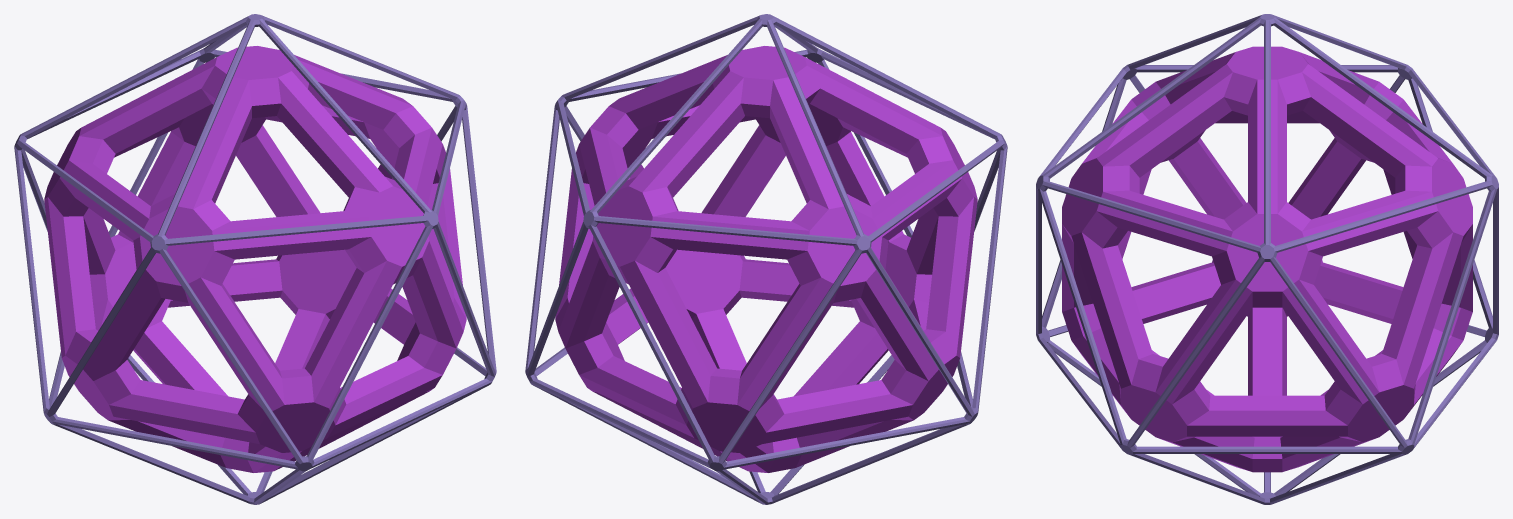
The picture shows the model from 3 angles, left to right: view 1: azimuth 30°, elevation 25°; view 2: azimuth 150°, elevation 25°; view 3: azimuth 270°, elevation 25°; orthographic projection.
Parts seen in each view (by area): view 1: Icosphere_BIG, Icosphere_Small; view 2: Icosphere_BIG, Icosphere_Small; view 3: Icosphere_BIG, Icosphere_Small.
Boxes of the visible parts, x1=… form: Icosphere_BIG: x1=44, y1=46, x2=466, y2=472; Icosphere_Small: x1=14, y1=14, x2=496, y2=504; Icosphere_BIG: x1=555, y1=46, x2=977, y2=472; Icosphere_Small: x1=525, y1=14, x2=1007, y2=504; Icosphere_BIG: x1=1062, y1=46, x2=1472, y2=472; Icosphere_Small: x1=1036, y1=14, x2=1498, y2=504.
Bounding box in the file's own units: 2.15 × 2.38 × 2.06.
